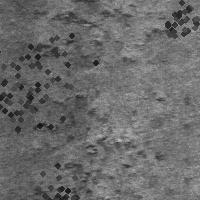rolled-in_scale: (0, 5, 99, 123), (39, 110, 164, 191), (40, 3, 167, 59), (0, 50, 63, 148), (148, 0, 200, 47), (24, 165, 90, 200)
